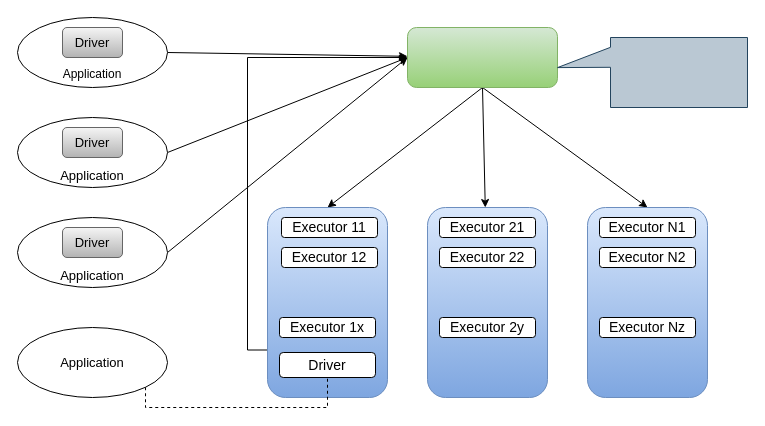
This 765x426 diagram has some shape labels left out. Here are the shapes that lost their labels. From the top down, the box of each, then its label:
(406, 26, 558, 88): Cluster Manager
(556, 36, 748, 108): Standalone YARN、Mesos EC2
